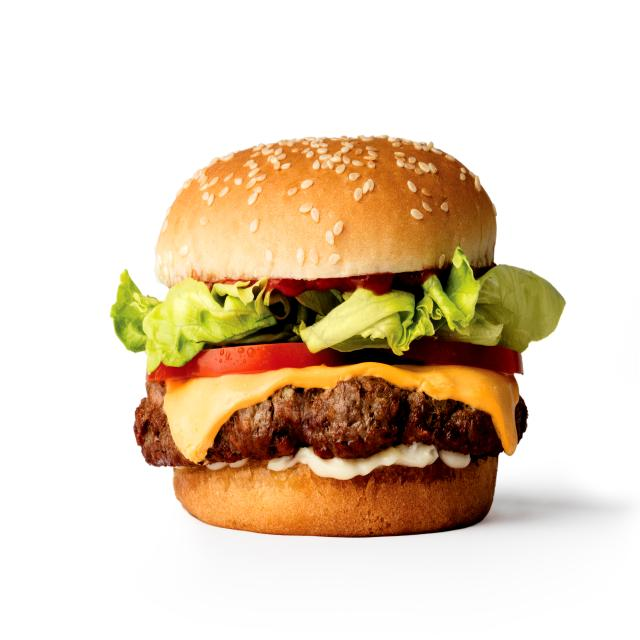burger: (104, 124, 577, 546)
